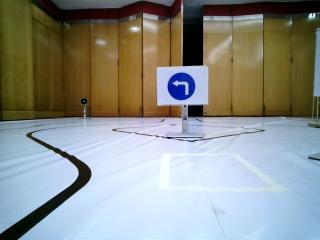left: (152, 65, 208, 103)
